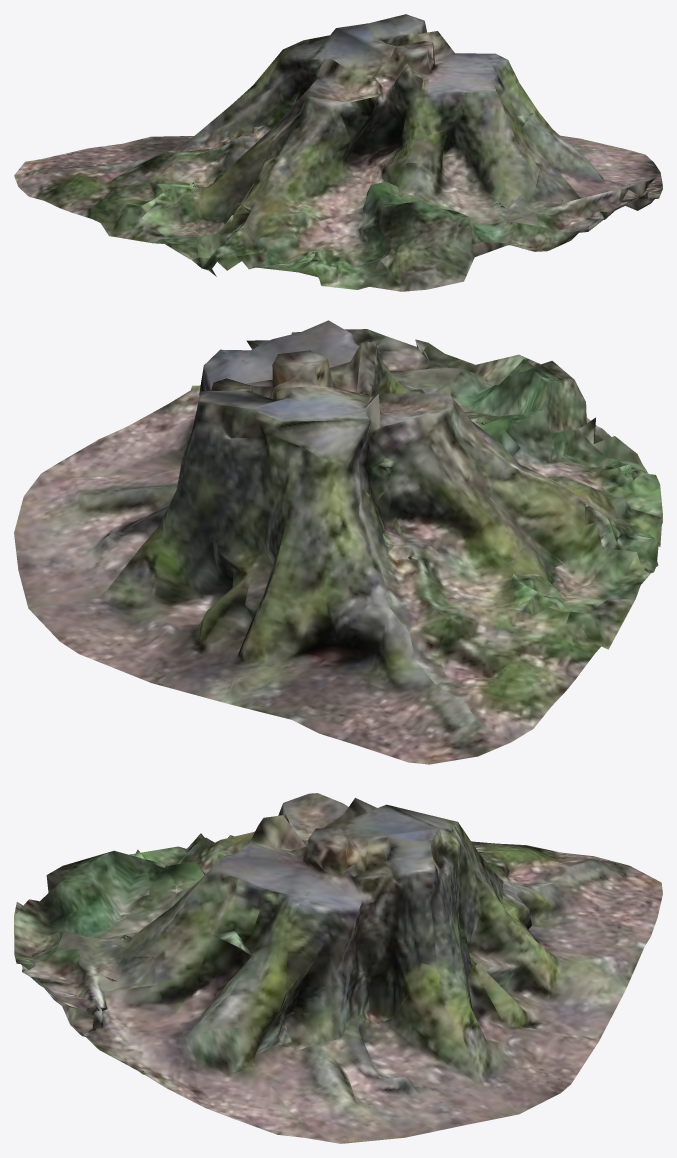
Rendered from stump.glb.
3 renders of one model, top to bottom at view 1: azimuth 30°, elevation 25°; view 2: azimuth 150°, elevation 25°; view 3: azimuth 270°, elevation 25°, orthographic. The views are drawn at different scales.
Visible parts, largest first — view 1: boubin_stump; view 2: boubin_stump; view 3: boubin_stump.
Boxes of the visible parts, box(x1,y1,x2,y2) form: boubin_stump: box(14, 14, 662, 291); boubin_stump: box(14, 320, 662, 764); boubin_stump: box(14, 793, 662, 1143).
Size of the model in its own units: 56.9 by 19.68 by 54.7.
1 material, 1 textured.
